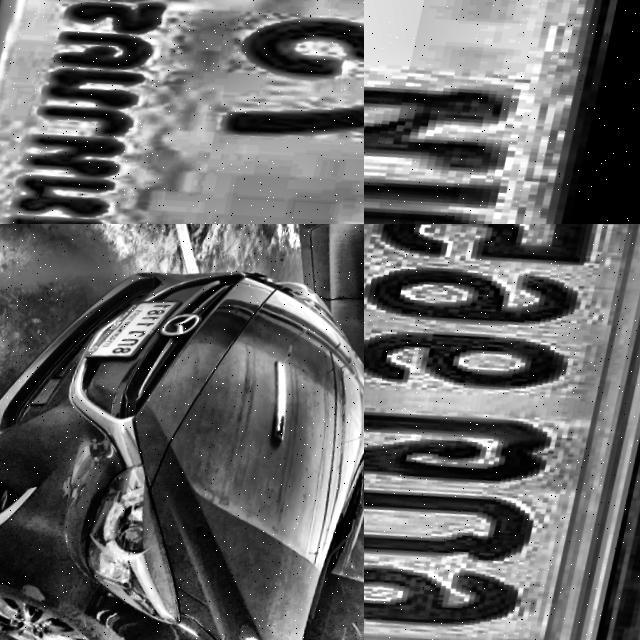license-plate: (364, 224, 640, 640), (0, 0, 364, 224), (364, 0, 640, 224), (85, 290, 192, 372)
